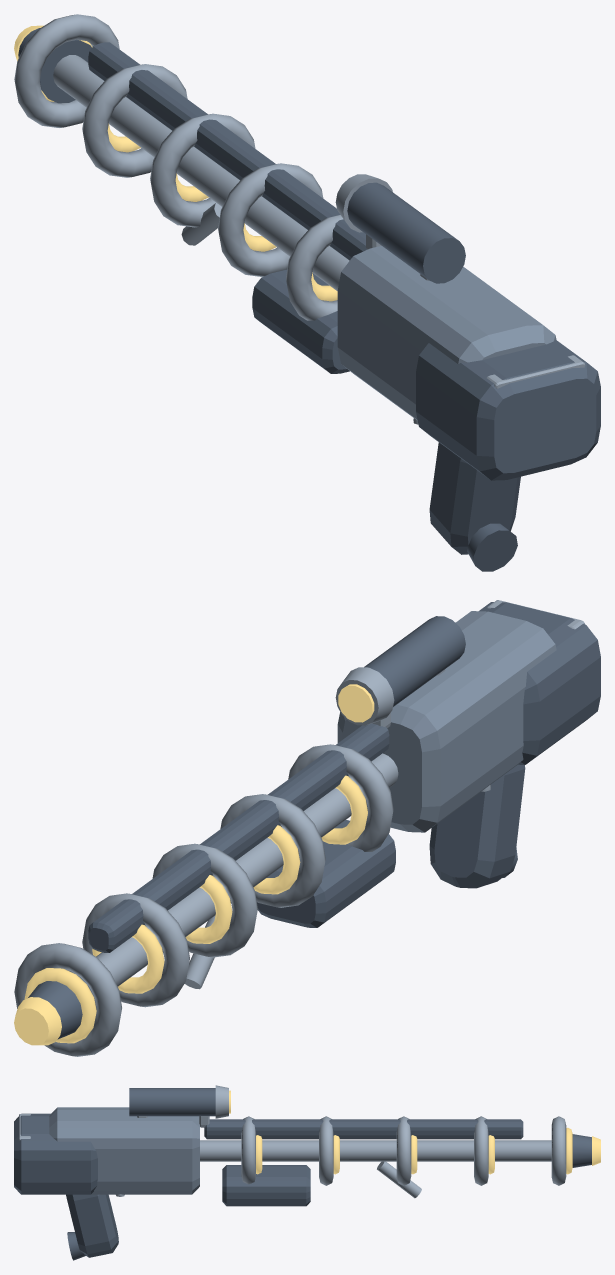
File: rail.glb
3 renders of one model, top to bottom at view 1: azimuth 30°, elevation 25°; view 2: azimuth 150°, elevation 25°; view 3: azimuth 270°, elevation 25°, orthographic. The views are drawn at different scales.
Visible parts, largest first — view 1: rail; view 2: rail; view 3: rail.
Boxes of the visible parts, x1=… form: rail: x1=14, y1=14, x2=600, y2=571; rail: x1=14, y1=600, x2=600, y2=1056; rail: x1=14, y1=1085, x2=600, y2=1260.
Bounding box in the file's own units: 0.185 × 0.4297 × 1.32.
